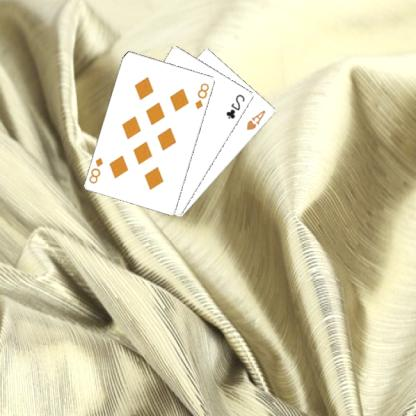2C: (226, 92, 248, 120)
8D: (88, 154, 107, 185), (194, 80, 212, 111)
AH: (246, 107, 269, 132)
